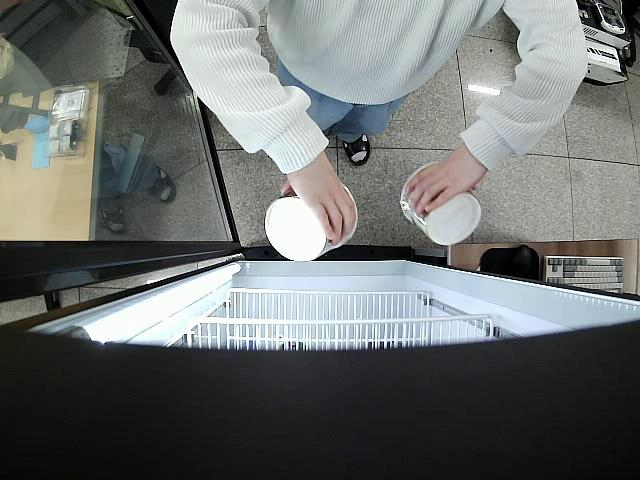00_hand: (279, 155, 358, 246), (403, 143, 486, 217)
03_chapagetti_L: (267, 183, 357, 262), (399, 161, 479, 246)
